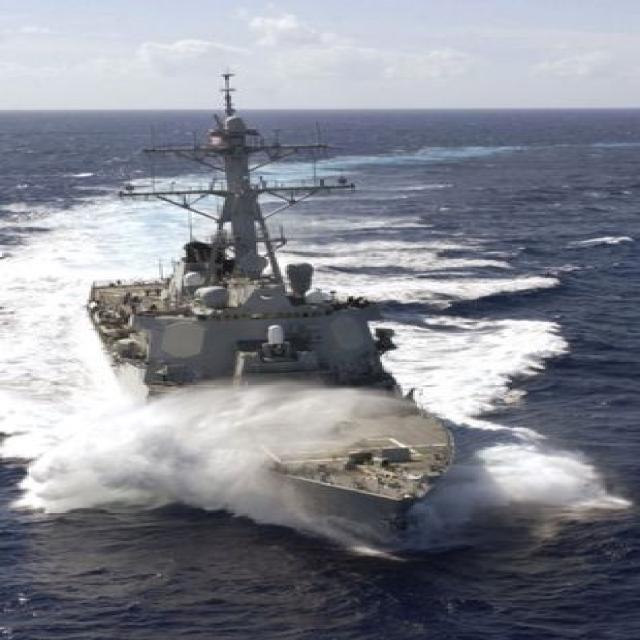navalvessels: (44, 105, 493, 544)
